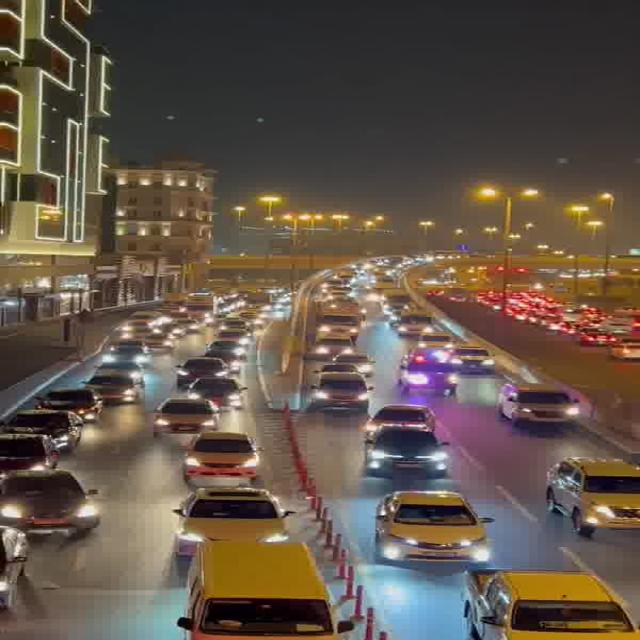ambulance: (394, 346, 461, 394)
